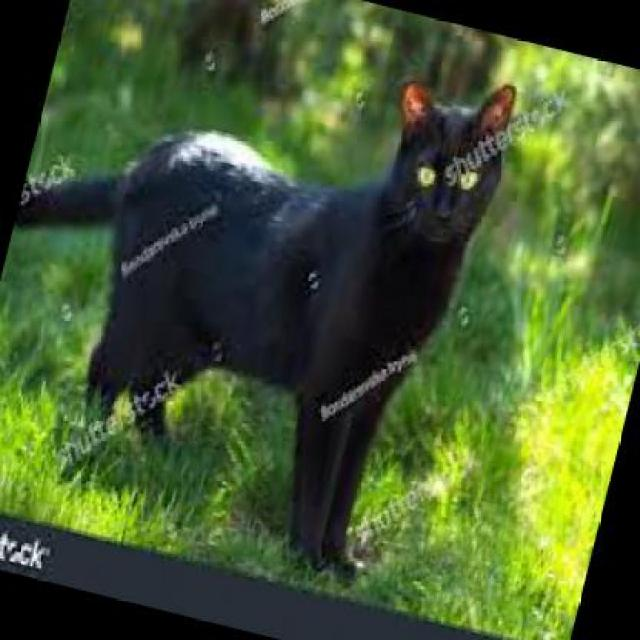animals: (0, 0, 551, 571)
